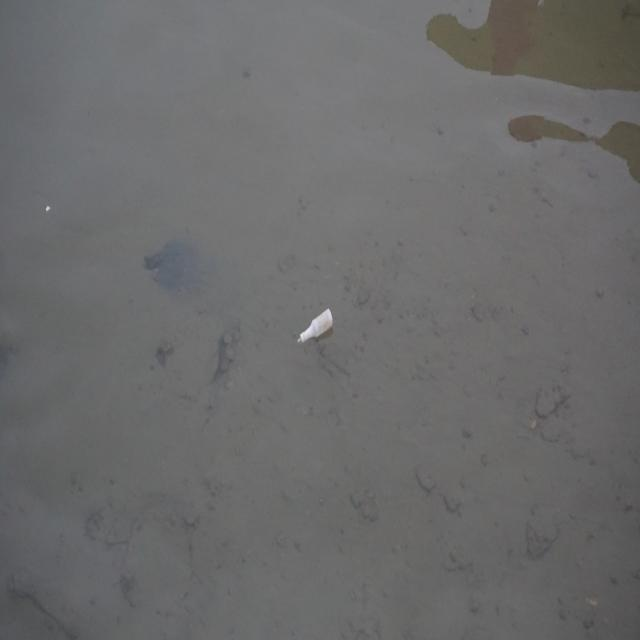Botol Plastik: (296, 305, 336, 349)
